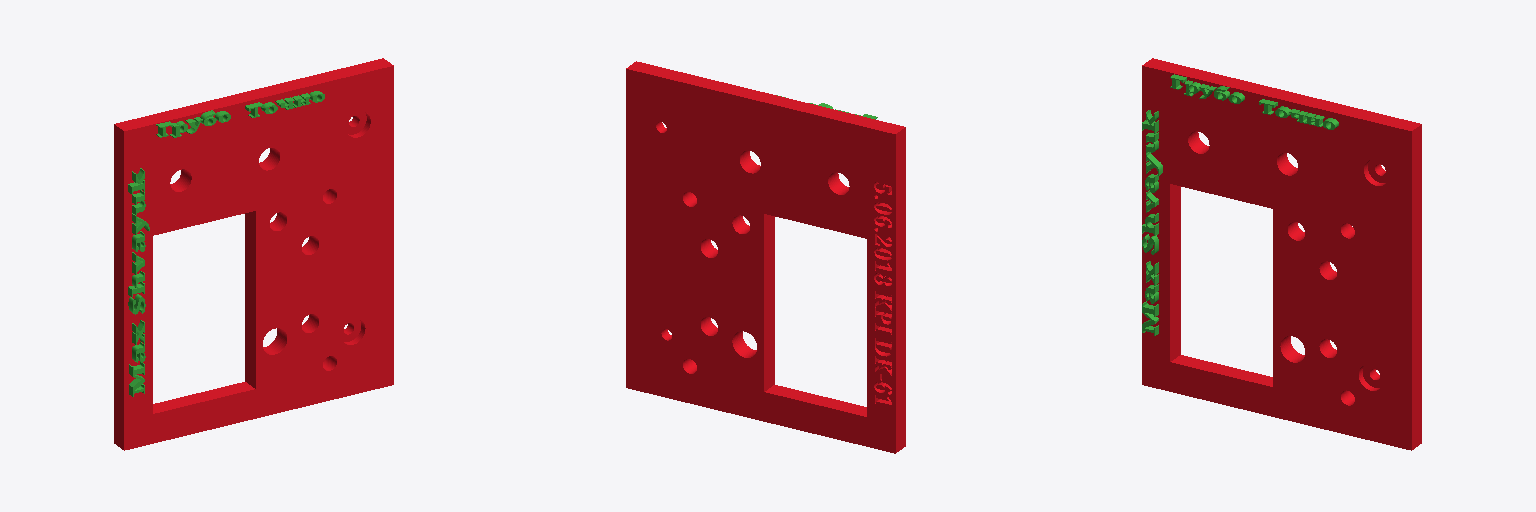
File: tinker.obj
The picture shows the model from 3 angles: view 1: azimuth 30°, elevation 25°; view 2: azimuth 150°, elevation 25°; view 3: azimuth 330°, elevation 25°; orthographic projection.
Parts seen in each view (by area): view 1: obj_0; view 2: obj_0; view 3: obj_0.
Boxes of the visible parts, x1=… form: obj_0: x1=114, y1=58, x2=393, y2=450; obj_0: x1=626, y1=61, x2=905, y2=453; obj_0: x1=1142, y1=58, x2=1421, y2=450.
Bounding box in the file's own units: 76 × 86 × 7.